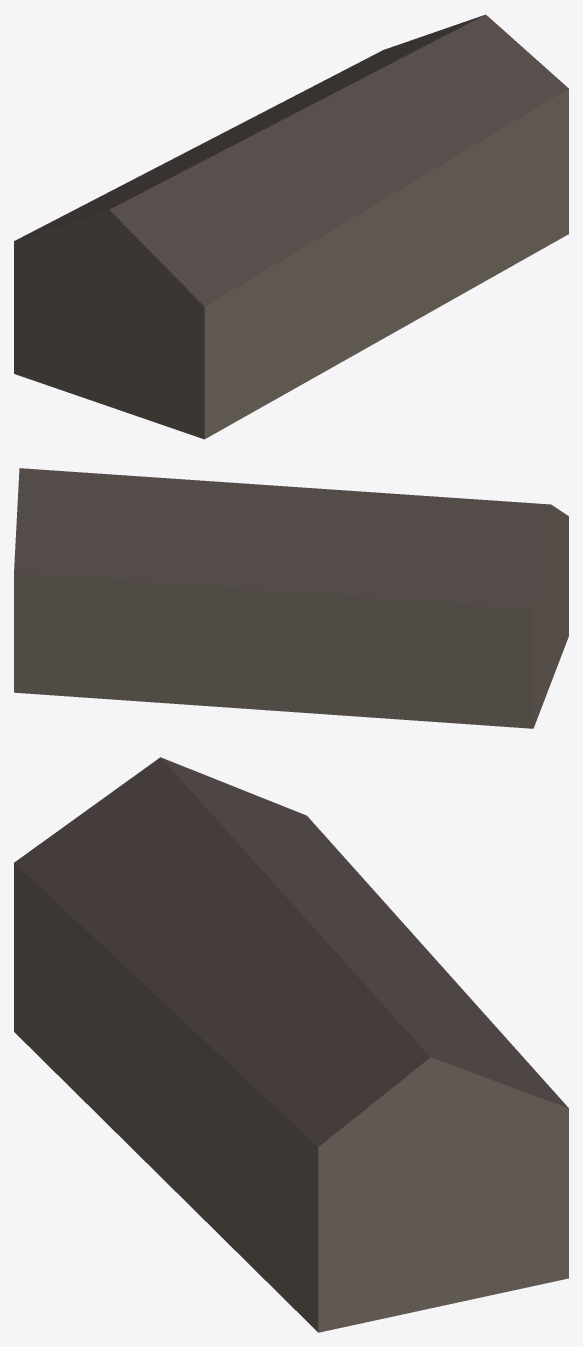
3 views of the same model, one above another, from view 1: azimuth 30°, elevation 25°; view 2: azimuth 150°, elevation 25°; view 3: azimuth 270°, elevation 25° (orthographic). The views are drawn at different scales.
Visible parts, largest first — view 1: HP-w1512911303; view 2: HP-w1512911303; view 3: HP-w1512911303.
Boxes of the visible parts, left/top/right/bottom form: HP-w1512911303: left=14, top=14, right=568, bottom=439; HP-w1512911303: left=14, top=468, right=568, bottom=728; HP-w1512911303: left=14, top=757, right=568, bottom=1332.
Size of the model in its own units: 26.49 by 8.91 by 17.85.
